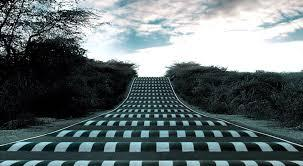Bump: (0, 141, 303, 152), (52, 128, 262, 138), (0, 160, 303, 166), (81, 120, 229, 126), (105, 113, 203, 118), (115, 109, 191, 112), (124, 100, 180, 104), (122, 105, 187, 108), (132, 83, 172, 86), (127, 97, 176, 99), (130, 93, 177, 95), (131, 90, 174, 92), (131, 88, 174, 90)
